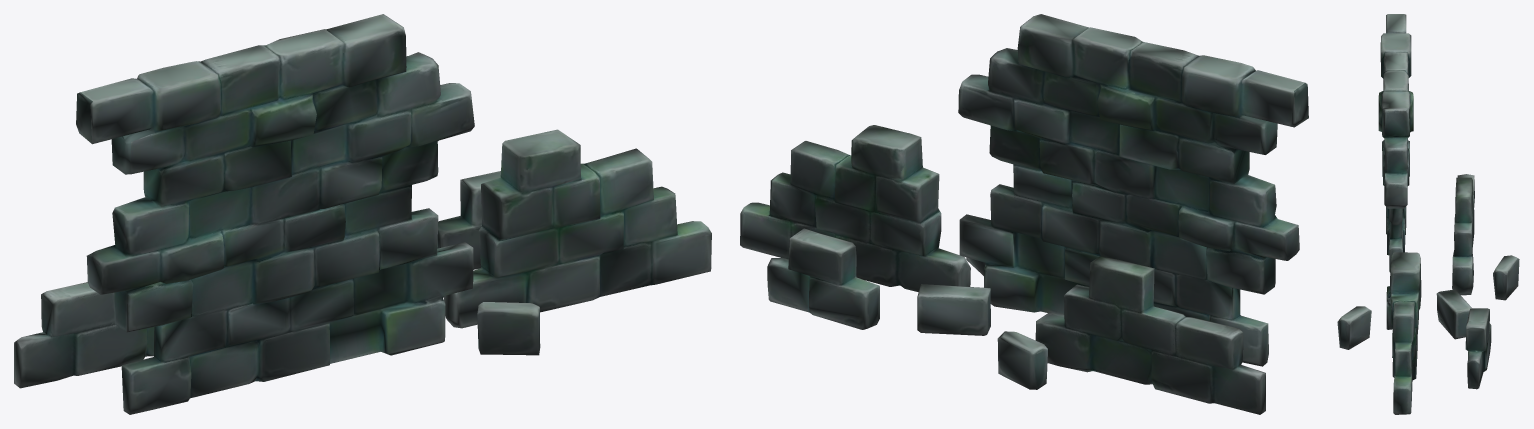
The model's file is wall.glb.
The picture shows the model from 3 angles, left to right: view 1: azimuth 30°, elevation 25°; view 2: azimuth 150°, elevation 25°; view 3: azimuth 270°, elevation 25°; orthographic projection. The views are drawn at different scales.
Parts seen in each view (by area): view 1: wall_stone, wall_stone_medium, wall_stone_low, wall_single_rock_2.001, wall_stone_triplet; view 2: wall_stone, wall_stone_medium, wall_stone_low, wall_stone_triplet, wall_single_rock, wall_single_rock_2; view 3: wall_stone, wall_stone_medium, wall_stone_low, wall_stone_triplet, wall_single_rock, wall_single_rock_2.001, wall_single_rock_2.
Boxes of the visible parts, x1,y1,x2,y2 form: wall_stone: [76, 14, 474, 414]; wall_stone_medium: [444, 129, 711, 328]; wall_stone_low: [14, 282, 154, 388]; wall_single_rock_2.001: [477, 302, 540, 355]; wall_stone_triplet: [437, 171, 500, 269]; wall_stone: [958, 14, 1308, 366]; wall_stone_medium: [740, 125, 970, 292]; wall_stone_low: [1035, 256, 1265, 414]; wall_stone_triplet: [767, 228, 879, 329]; wall_single_rock: [917, 284, 990, 335]; wall_single_rock_2: [997, 331, 1047, 389]; wall_stone: [1378, 14, 1413, 329]; wall_stone_medium: [1390, 252, 1421, 414]; wall_stone_low: [1452, 174, 1474, 295]; wall_stone_triplet: [1465, 308, 1491, 389]; wall_single_rock: [1436, 289, 1471, 339]; wall_single_rock_2.001: [1337, 306, 1371, 349]; wall_single_rock_2: [1493, 255, 1519, 300].
Size of the model in its own units: 407 by 201 by 158.
Materials: 2 (2 with a texture image).
